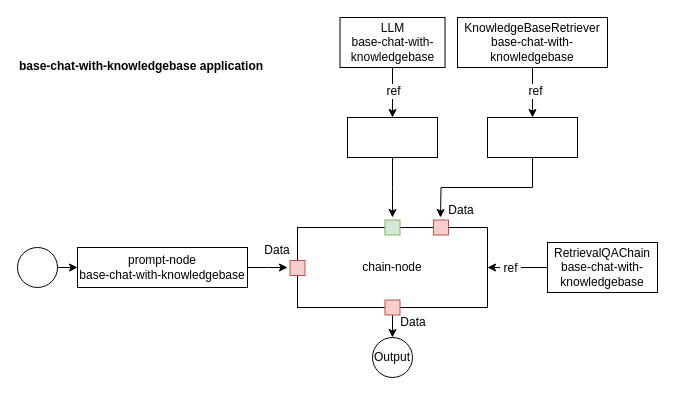
Some shapes in this 675 by 395 pixel diagram are drawn without their labels. Here are the shapes that lost their labels. From the top down, the centre of each, then its label:
(392,137): llm-node
(532,137): retriever-node
(37,267): Input
